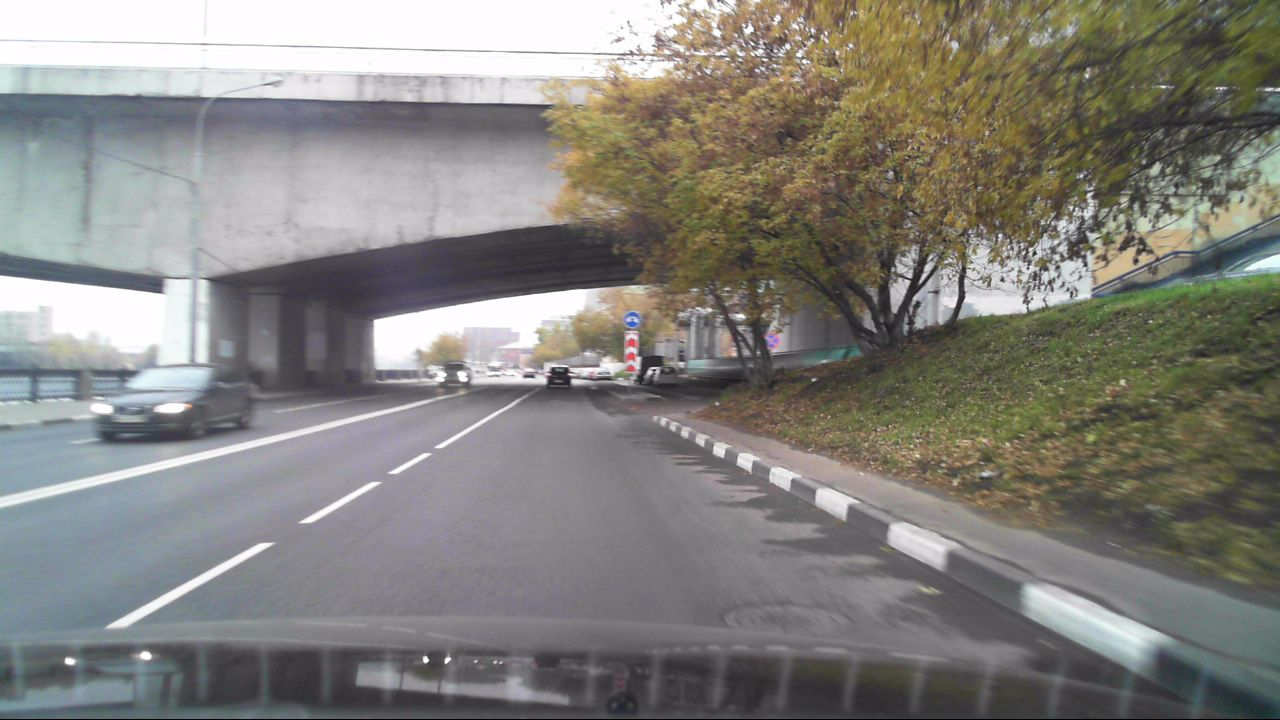No Parking: (763, 329, 780, 349)
